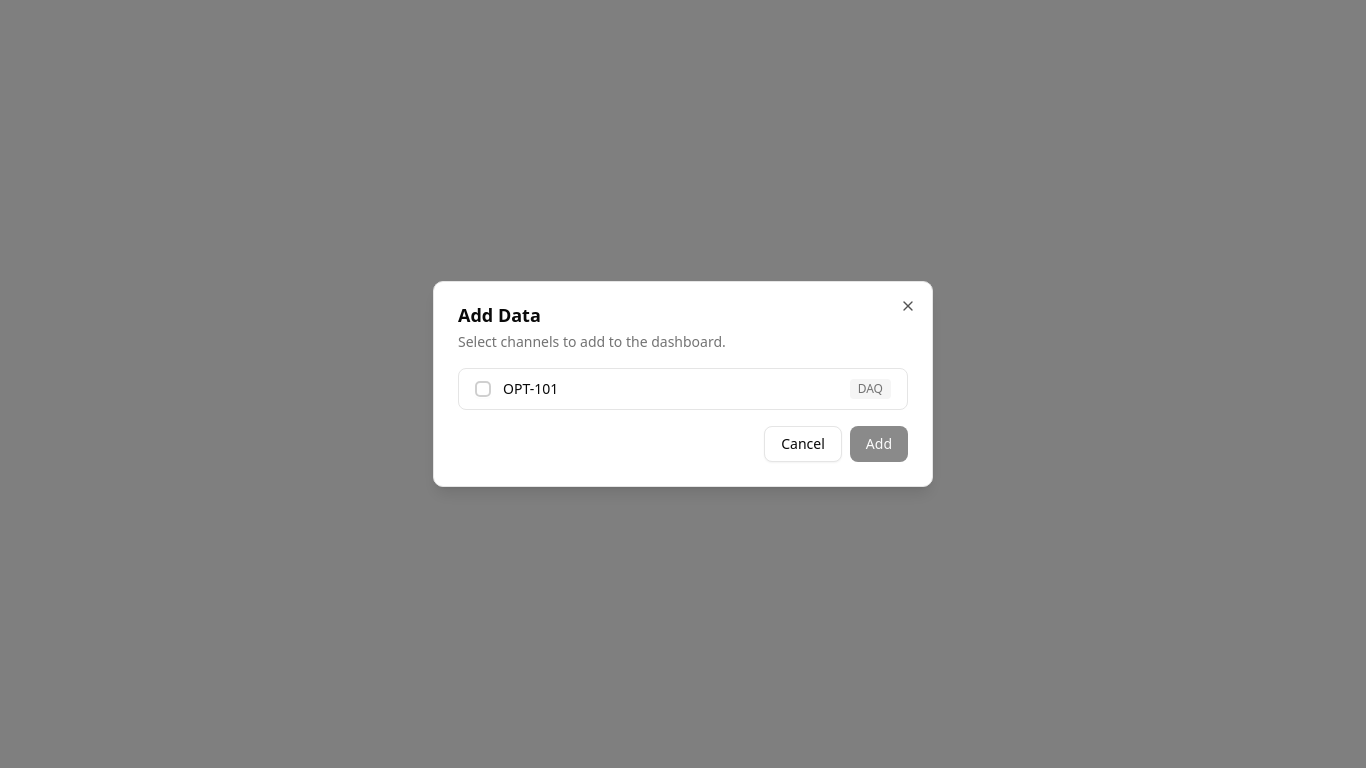
Test: AddDataDialog › Add button enables when a checkbox is checked
This screenshot has width=1366, height=768.
Click the text "OPT-101": (531, 388) [503, 379, 558, 398]
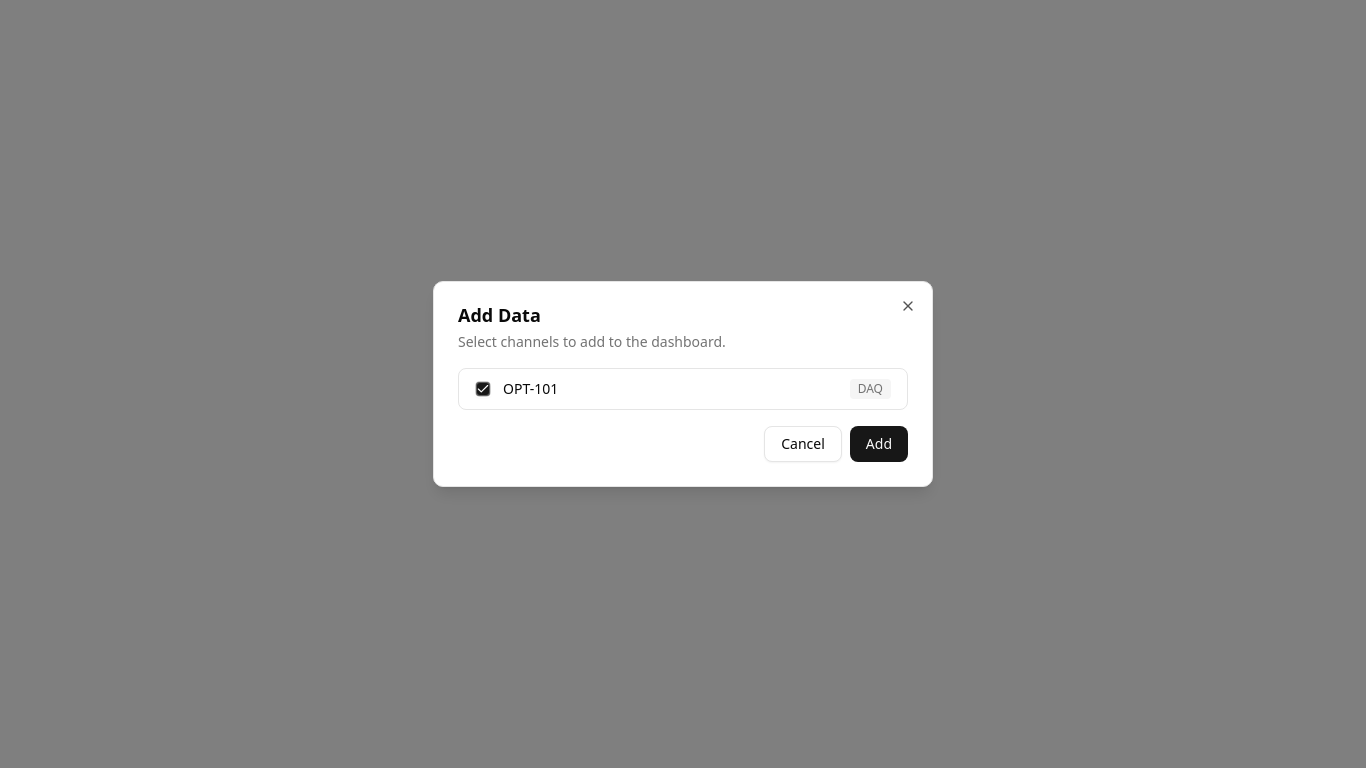
Expected: the button "Add" is enabled, [850, 426, 908, 462]
